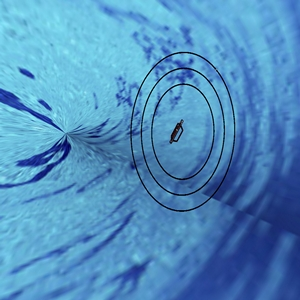circle: (122, 47, 247, 219)
submarine: (168, 114, 189, 151)
